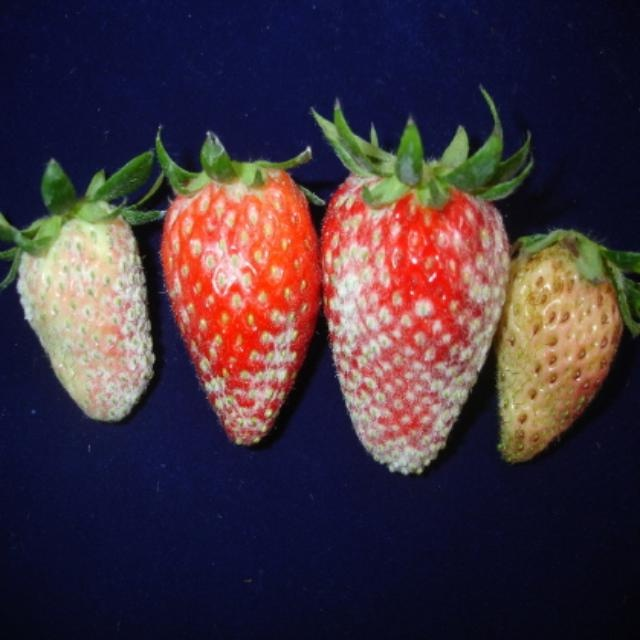Powdery Mildew Fruit: (320, 157, 512, 477), (160, 159, 324, 446), (15, 198, 156, 423)
